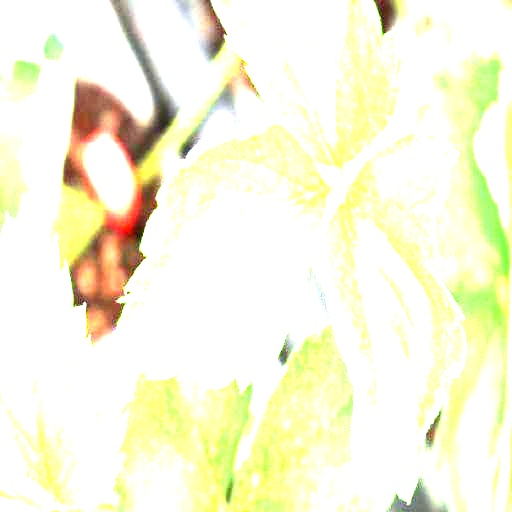Powdery Mildew Leaf: (116, 116, 328, 394), (315, 128, 467, 511), (209, 0, 402, 171)
